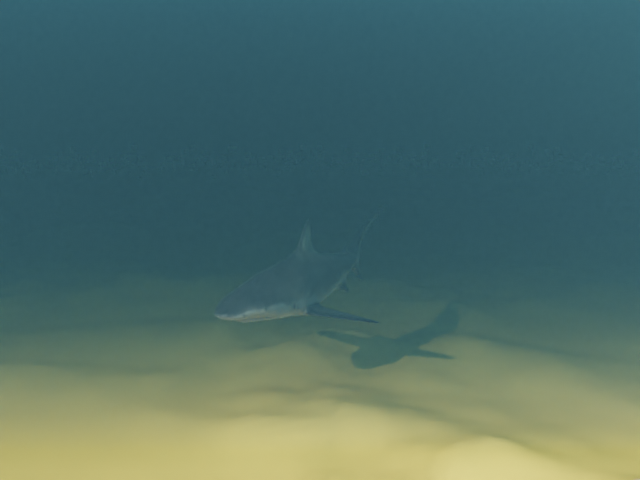Carribean Shark.001: (214, 203, 386, 323)
